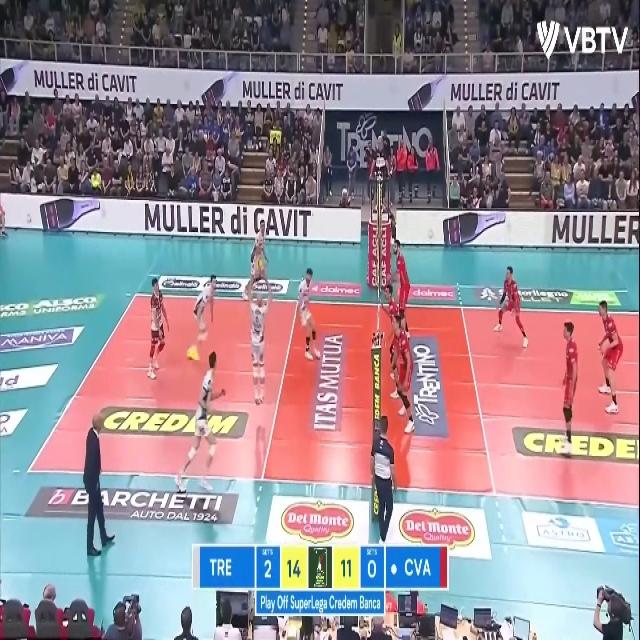volleyball court: (26, 290, 638, 502)
